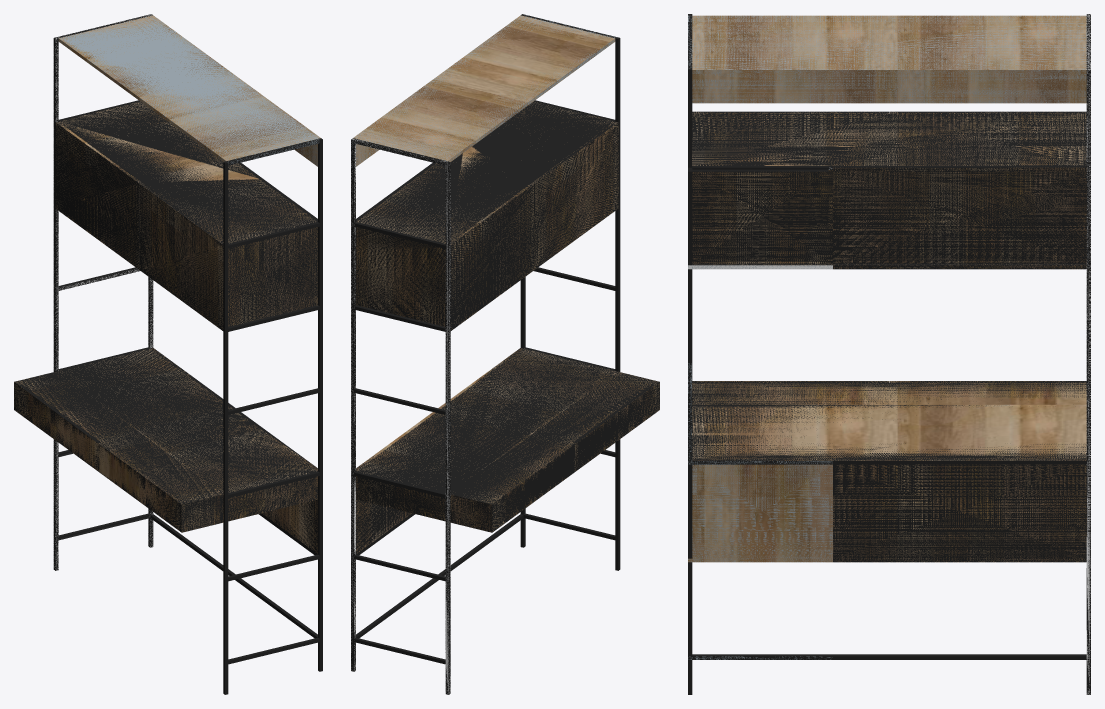
The model's file is IndustrialStorageModularSystem49DeskWestElm_1.fbx.
3 views of the same model, side by side, from view 1: azimuth 30°, elevation 25°; view 2: azimuth 150°, elevation 25°; view 3: azimuth 270°, elevation 25° (orthographic). The views are drawn at different scales.
Visible parts, largest first — view 1: Group1; view 2: Group1; view 3: Group1.
Boxes of the visible parts, <box> form: Group1: <box>14,14,322,694</box>; Group1: <box>351,14,659,694</box>; Group1: <box>688,14,1090,694</box>.
Bounding box in the file's own units: 22.99 × 83.86 × 48.98.
